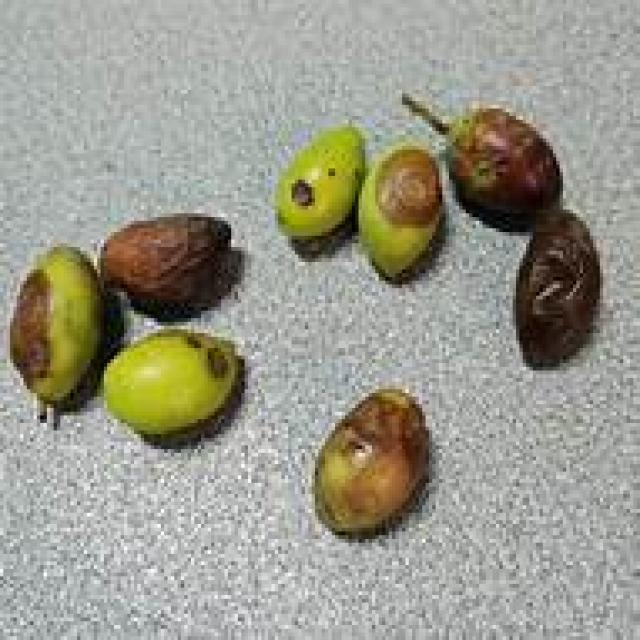Anthracnose: (104, 326, 241, 446), (315, 389, 426, 532), (446, 105, 564, 232), (512, 206, 600, 367), (100, 214, 228, 322), (10, 274, 97, 416), (358, 138, 442, 280), (275, 124, 362, 235)
